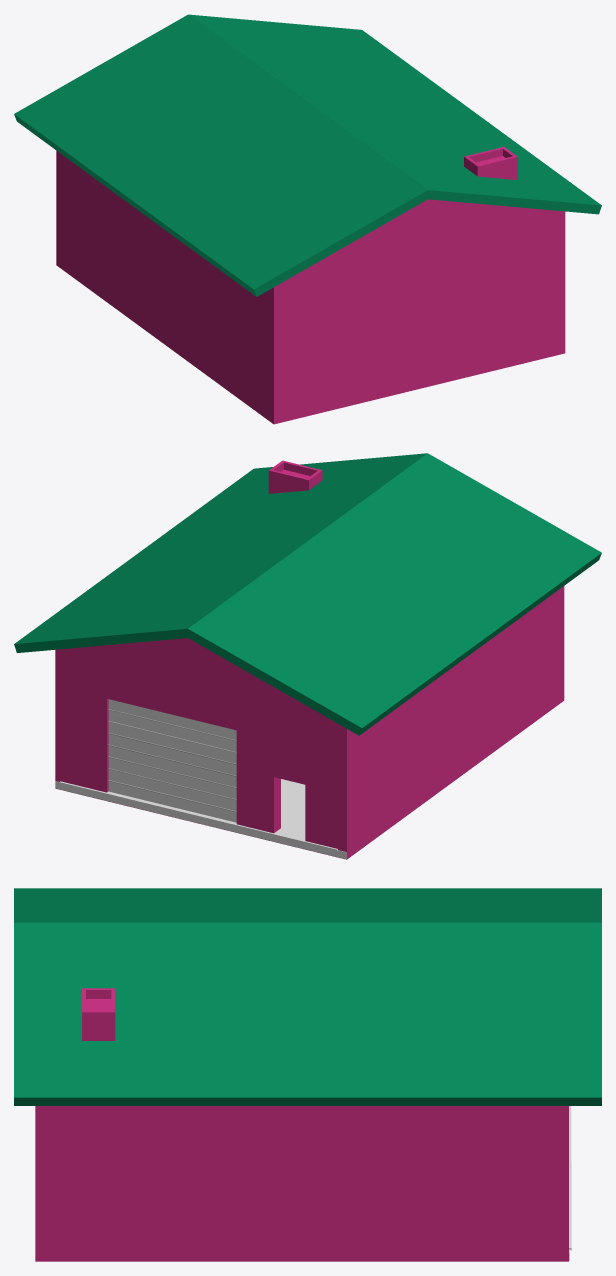
The model's file is garage-v5.fbx.
The picture shows the model from 3 angles, top to bottom: view 1: azimuth 30°, elevation 25°; view 2: azimuth 150°, elevation 25°; view 3: azimuth 270°, elevation 25°; orthographic projection. The views are drawn at different scales.
Parts seen in each view (by area): view 1: Roof, Building; view 2: Roof, Building, CarDoor, Carpet, Cube.005; view 3: Roof, Building.
Boxes of the visible parts, bbox=[...] form: Roof: bbox=[14, 14, 601, 296]; Building: bbox=[56, 147, 565, 424]; Roof: bbox=[14, 453, 601, 735]; Building: bbox=[55, 460, 564, 859]; CarDoor: bbox=[108, 699, 236, 822]; Carpet: bbox=[59, 779, 337, 851]; Cube.005: bbox=[55, 781, 346, 859]; Roof: bbox=[14, 888, 601, 1105]; Building: bbox=[35, 988, 568, 1261].
Size of the model in its own units: 2941 by 1658 by 3509.
